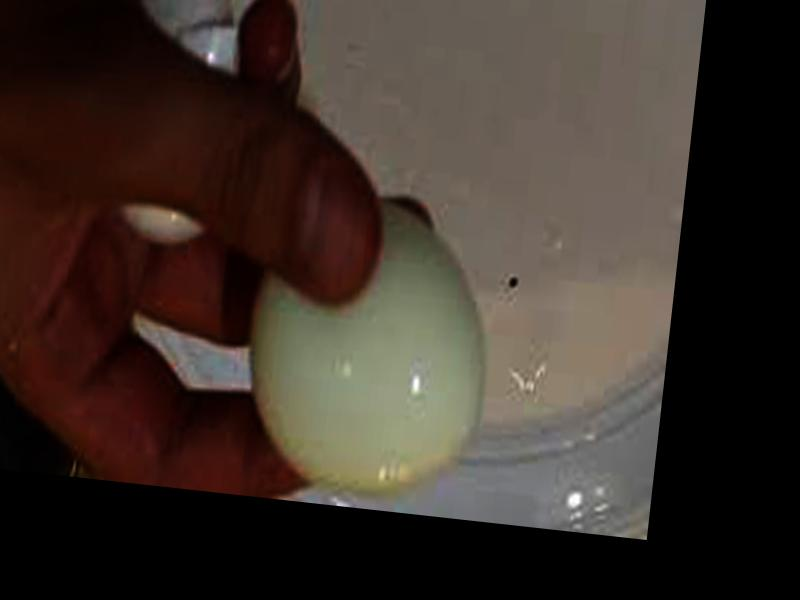Eggs: (233, 184, 497, 515)
